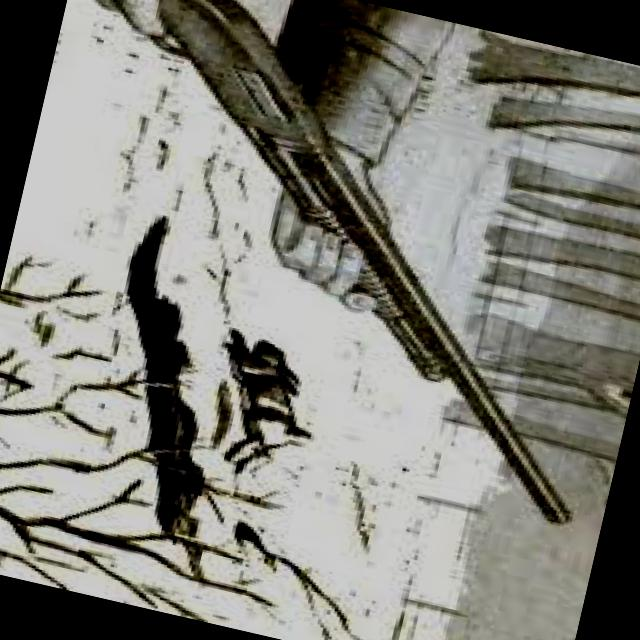long weapon: (145, 0, 553, 542)
